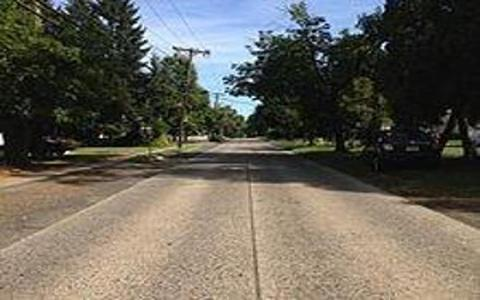Proper road: (127, 190, 421, 291)
